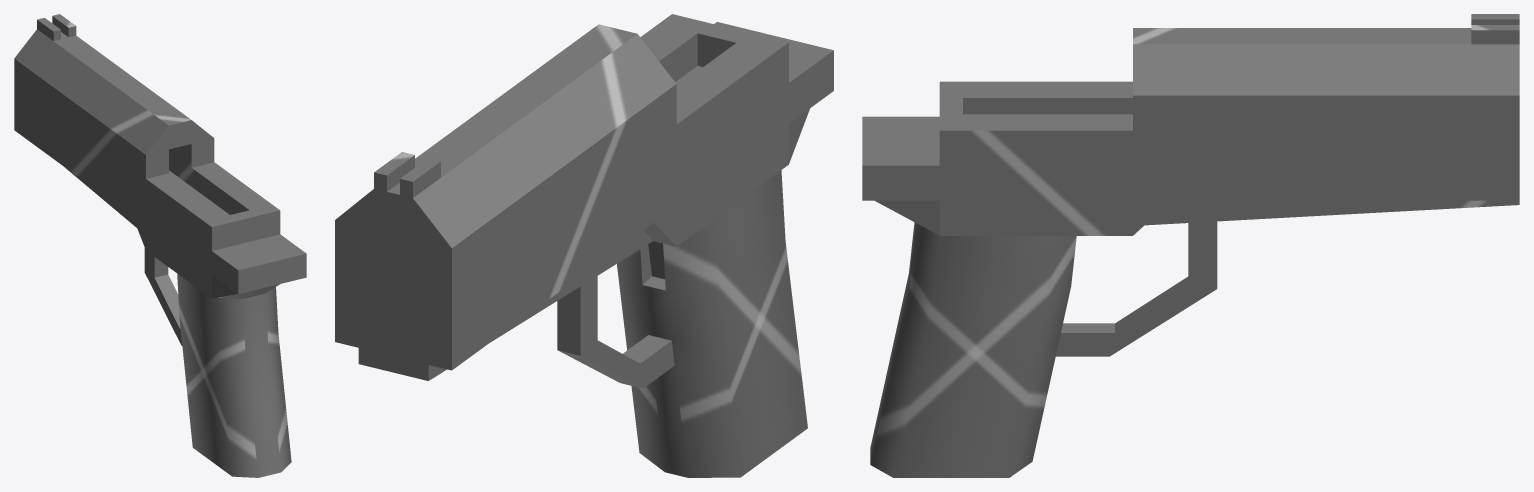
Rendered from FSP-S6-Main.obj.
3 renders of one model, left to right at view 1: azimuth 30°, elevation 25°; view 2: azimuth 150°, elevation 25°; view 3: azimuth 270°, elevation 25°, orthographic. The views are drawn at different scales.
Parts seen in each view (by area): view 1: FSP-S6-Main; view 2: FSP-S6-Main; view 3: FSP-S6-Main.
Boxes of the visible parts, <box> form: FSP-S6-Main: <box>14,14,306,477</box>; FSP-S6-Main: <box>335,14,833,477</box>; FSP-S6-Main: <box>862,14,1519,477</box>.
Size of the model in its own units: 0.15 by 0.6203 by 0.8501.
